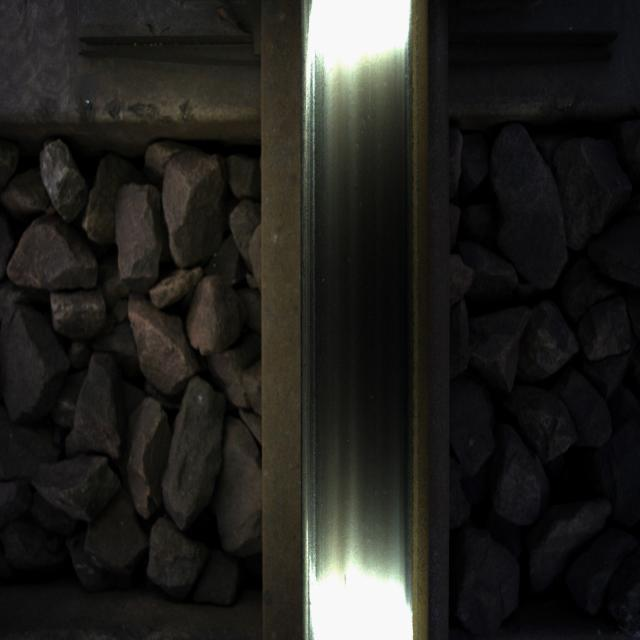break: (314, 39, 405, 575)
